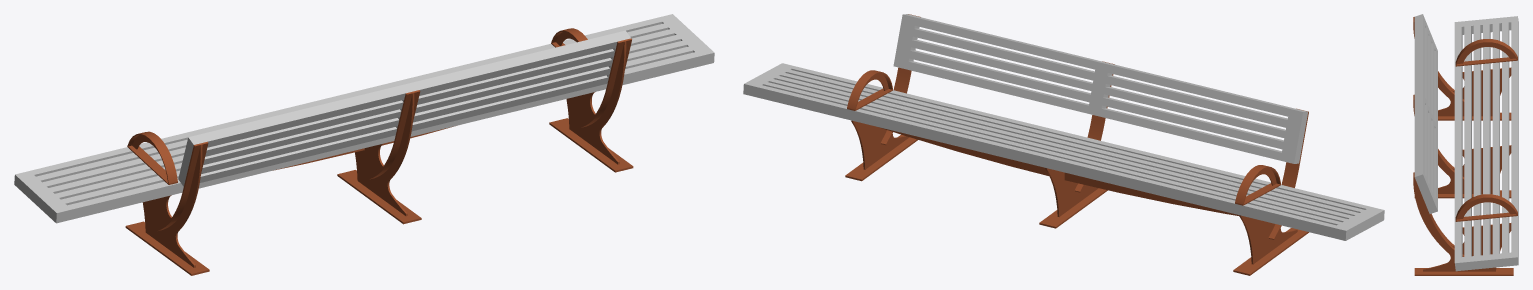
3 renders of one model, left to right at view 1: azimuth 30°, elevation 25°; view 2: azimuth 150°, elevation 25°; view 3: azimuth 270°, elevation 25°, orthographic. The views are drawn at different scales.
Parts seen in each view (by area): view 1: mesh1_mesh1-geometry, mesh3_mesh3-geometry, mesh9_mesh9-geometry, mesh7_mesh7-geometry; view 2: mesh3_mesh3-geometry, mesh1_mesh1-geometry, mesh9_mesh9-geometry, mesh5_mesh5-geometry, mesh7_mesh7-geometry; view 3: mesh3_mesh3-geometry, mesh9_mesh9-geometry, mesh1_mesh1-geometry, mesh7_mesh7-geometry.
Part boxes in pixels (box(x1,y1,x2,y2)): mesh1_mesh1-geometry: box(178, 30, 630, 186); mesh3_mesh3-geometry: box(14, 14, 714, 223); mesh9_mesh9-geometry: box(125, 38, 633, 275); mesh7_mesh7-geometry: box(127, 28, 587, 184); mesh3_mesh3-geometry: box(743, 63, 1384, 240); mesh1_mesh1-geometry: box(893, 14, 1307, 163); mesh9_mesh9-geometry: box(845, 14, 1308, 275); mesh5_mesh5-geometry: box(879, 127, 1239, 215); mesh7_mesh7-geometry: box(847, 70, 1280, 205); mesh3_mesh3-geometry: box(1454, 16, 1518, 271); mesh9_mesh9-geometry: box(1413, 17, 1513, 275); mesh1_mesh1-geometry: box(1414, 14, 1437, 213); mesh7_mesh7-geometry: box(1455, 39, 1517, 221).
Bounding box in the file's own units: 0.9657 × 0.1882 × 0.1788.
